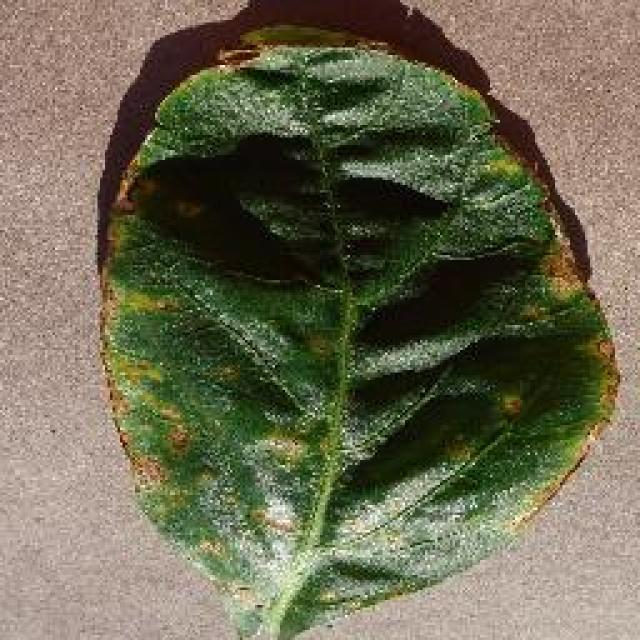Chilli_Bacterial_Spot: (92, 22, 622, 638), (112, 155, 160, 215), (248, 492, 300, 538), (258, 430, 308, 475), (488, 378, 532, 428), (437, 430, 475, 468), (167, 192, 205, 222), (162, 420, 192, 458), (515, 298, 550, 328), (495, 388, 525, 422), (593, 335, 615, 360)
